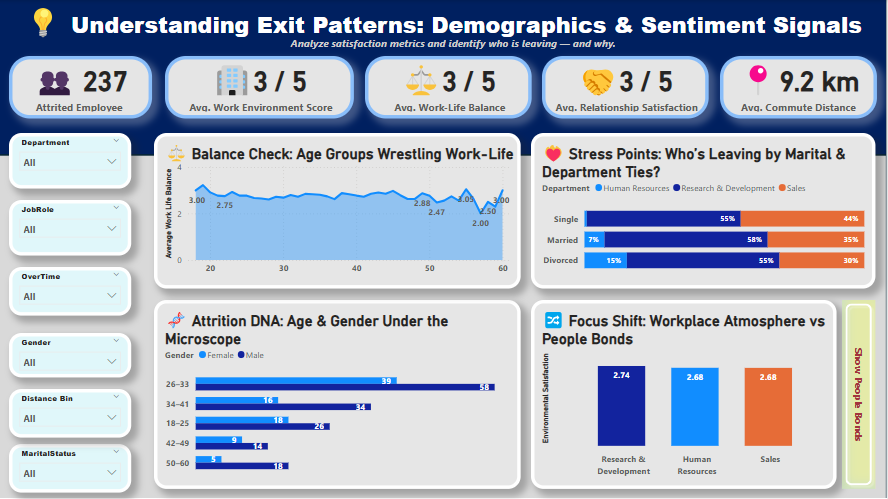

This screenshot's page, from the dashboard's own definition file:
{"tool":"powerbi","page":{"name":"Attrition Insights","canvas":[1280,720],"ordinal":1},"visuals":[{"type":"card","fields":{"Values":["HR Analytics Data.Attrited_Employee_Count"]},"box":[16,80,206,90],"z":0},{"type":"card","fields":{"Values":["HR Analytics Data.Avg_EnvironmentSatisfaction_Formatted"]},"box":[240,80,272,90],"z":1000},{"type":"card","fields":{"Values":["HR Analytics Data.Avg_WorkLifeBalance_Formatted"]},"box":[528,80,240,90],"z":2000},{"type":"card","fields":{"Values":["HR Analytics Data.Avg_RelationshipSatisfaction_Formatted"]},"box":[784,80,240,90],"z":3000},{"type":"card","fields":{"Values":["HR Analytics Data.Avg_DistanceFromHome_Formatted"]},"box":[1040,80,226,90],"z":4000},{"type":"clusteredBarChart","title":"🧬 Attrition DNA: Age & Gender Under the Microscope","fields":{"Category":["HR Analytics Data.AgeGroup"],"Series":["HR Analytics Data.Gender"],"Y":["CountNonNull(HR Analytics Data.Attrited Count)"]},"box":[224,432,528,272],"z":5000},{"type":"stackedAreaChart","title":"⚖️ Balance Check: Age Groups Wrestling Work-Life","fields":{"Category":["HR Analytics Data.Age"],"Y":["Avg(HR Analytics Data.WorkLifeBalance)"]},"box":[224,192,528,224],"z":6000},{"type":"hundredPercentStackedBarChart","title":"❤️🔥 Stress Points: Who’s Leaving by Marital & Department Ties?","fields":{"Category":["HR Analytics Data.MaritalStatus"],"Series":["HR Analytics Data.Department"],"Y":["CountNonNull(HR Analytics Data.Attrited Count)"]},"box":[768,192,496,224],"z":8000},{"type":"columnChart","title":"🔀 Focus Shift: Workplace Atmosphere vs People Bonds","fields":{"Y":["Avg(HR Analytics Data.EnvironmentSatisfaction)"],"Category":["HR Analytics Data.Department"]},"box":[768,432,440,272],"z":9000},{"type":"actionButton","title":"Btn_ShowRelSat","box":[1216,432,48,272],"z":11000},{"type":"slicer","fields":{"Values":["HR Analytics Data.Department"]},"box":[16,192,176,80],"z":12000},{"type":"slicer","fields":{"Values":["HR Analytics Data.MaritalStatus"]},"box":[16,640,176,70],"z":13000},{"type":"slicer","fields":{"Values":["HR Analytics Data.JobRole"]},"box":[16,288,176,80],"z":14000},{"type":"slicer","fields":{"Values":["HR Analytics Data.OverTime"]},"box":[16,384,176,70],"z":15000},{"type":"slicer","fields":{"Values":["HR Analytics Data.Gender"]},"box":[16,480,176,64],"z":16000},{"type":"slicer","fields":{"Values":["HR Analytics Data.Distance Bin"]},"box":[16,560,176,70],"z":17000},{"type":"textbox","box":[0,0,1280,96],"z":18000},{"type":"textbox","box":[416,48,512,32],"z":18001}]}

Visuals, with their boxes in screenshot pixels (x1, y1, x2, y2), scaled from the page's 1280x720 canvas onto the 888x499 screenshot:
card - HR Analytics Data.Attrited_Employee_Count: {"x1": 11, "y1": 55, "x2": 154, "y2": 118}
card - HR Analytics Data.Avg_EnvironmentSatisfaction_Formatted: {"x1": 166, "y1": 55, "x2": 355, "y2": 118}
card - HR Analytics Data.Avg_WorkLifeBalance_Formatted: {"x1": 366, "y1": 55, "x2": 533, "y2": 118}
card - HR Analytics Data.Avg_RelationshipSatisfaction_Formatted: {"x1": 544, "y1": 55, "x2": 710, "y2": 118}
card - HR Analytics Data.Avg_DistanceFromHome_Formatted: {"x1": 722, "y1": 55, "x2": 878, "y2": 118}
"🧬 Attrition DNA: Age & Gender Under the Microscope" clusteredBarChart: {"x1": 155, "y1": 299, "x2": 522, "y2": 488}
"⚖️ Balance Check: Age Groups Wrestling Work-Life" stackedAreaChart: {"x1": 155, "y1": 133, "x2": 522, "y2": 288}
"❤️🔥 Stress Points: Who’s Leaving by Marital & Department Ties?" hundredPercentStackedBarChart: {"x1": 533, "y1": 133, "x2": 877, "y2": 288}
"🔀 Focus Shift: Workplace Atmosphere vs People Bonds" columnChart: {"x1": 533, "y1": 299, "x2": 838, "y2": 488}
"Btn_ShowRelSat" actionButton: {"x1": 844, "y1": 299, "x2": 877, "y2": 488}
slicer - HR Analytics Data.Department: {"x1": 11, "y1": 133, "x2": 133, "y2": 189}
slicer - HR Analytics Data.MaritalStatus: {"x1": 11, "y1": 444, "x2": 133, "y2": 492}
slicer - HR Analytics Data.JobRole: {"x1": 11, "y1": 200, "x2": 133, "y2": 255}
slicer - HR Analytics Data.OverTime: {"x1": 11, "y1": 266, "x2": 133, "y2": 315}
slicer - HR Analytics Data.Gender: {"x1": 11, "y1": 333, "x2": 133, "y2": 377}
slicer - HR Analytics Data.Distance Bin: {"x1": 11, "y1": 388, "x2": 133, "y2": 437}
textbox: {"x1": 0, "y1": 0, "x2": 887, "y2": 67}
textbox: {"x1": 289, "y1": 33, "x2": 644, "y2": 55}
